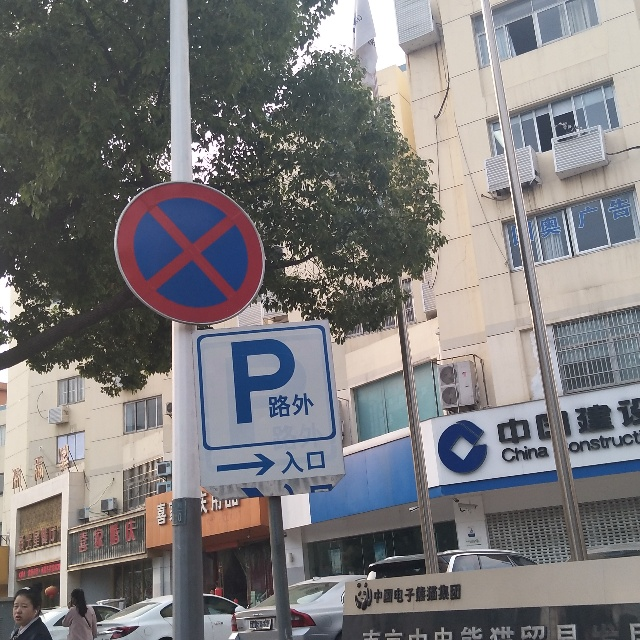stop: (113, 180, 267, 326)
